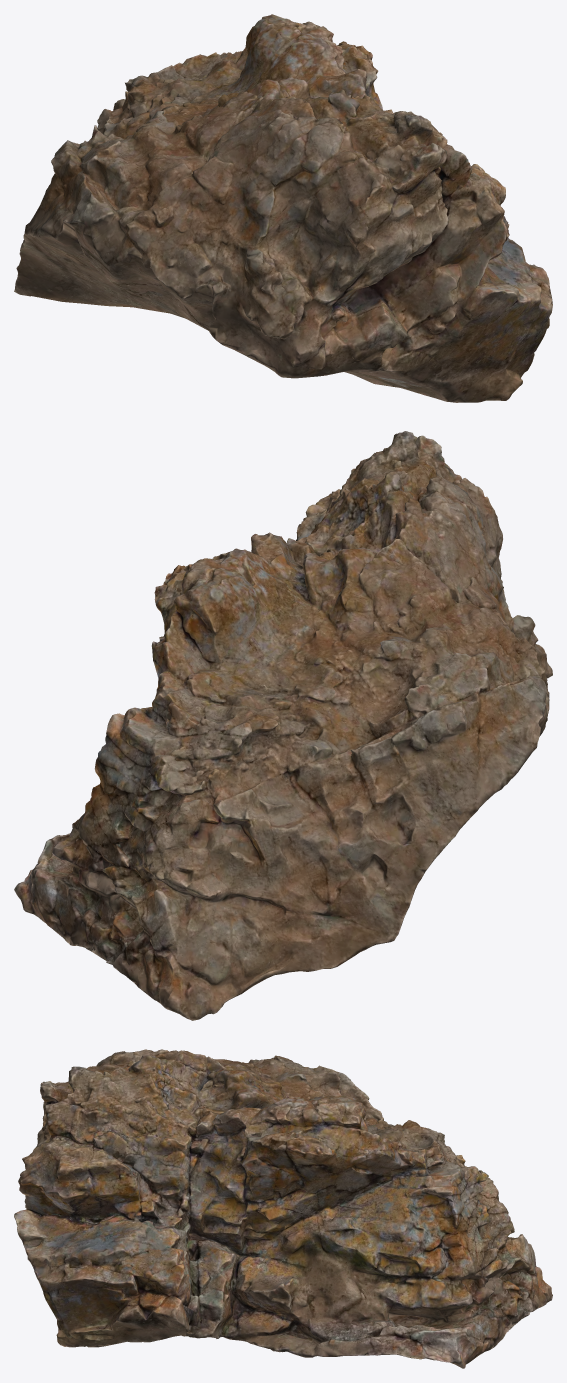
Rendered from rock.glb.
The picture shows the model from 3 angles, top to bottom: view 1: azimuth 30°, elevation 25°; view 2: azimuth 150°, elevation 25°; view 3: azimuth 270°, elevation 25°; orthographic projection. The views are drawn at different scales.
Parts seen in each view (by area): view 1: boulder_01; view 2: boulder_01; view 3: boulder_01.
Boxes of the visible parts, <box> form: boulder_01: <box>14,14,552,402</box>; boulder_01: <box>14,431,552,1020</box>; boulder_01: <box>14,1049,552,1368</box>.
Bounding box in the file's own units: 1.27 × 1 × 1.83.
1 material, 1 textured.
